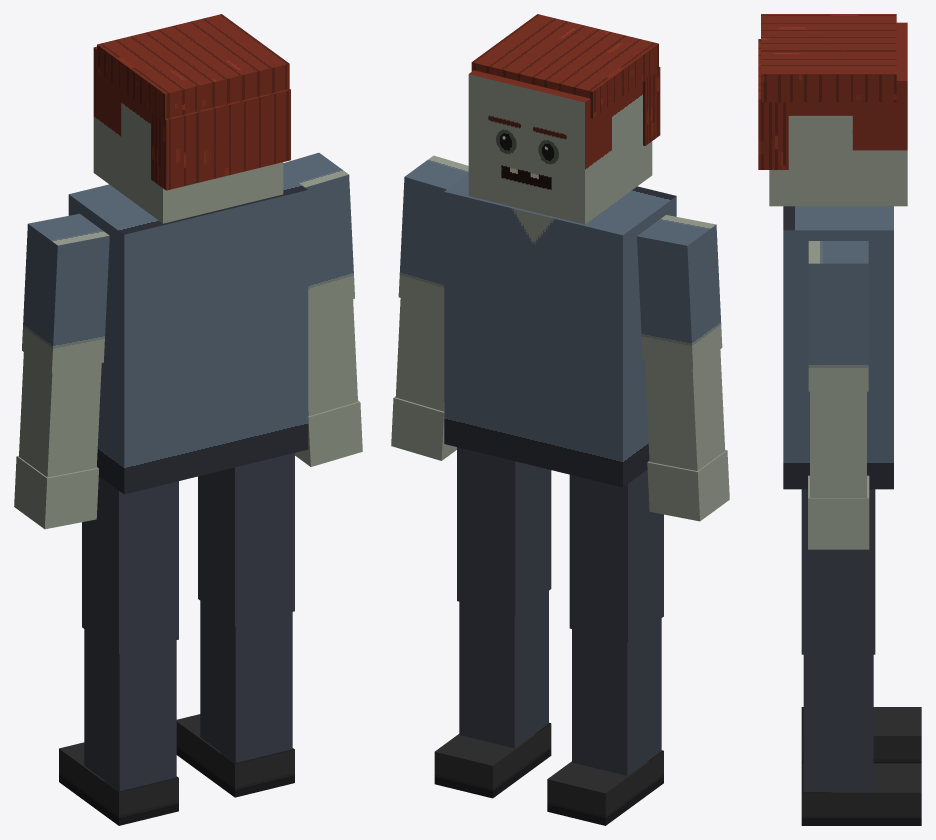
File: hair_slicked.glb
3 renders of one model, left to right at view 1: azimuth 30°, elevation 25°; view 2: azimuth 150°, elevation 25°; view 3: azimuth 270°, elevation 25°, orthographic. The views are drawn at different scales.
Visible parts, largest first — view 1: block_torso, block_thigh.L, block_thigh.R, block_hair-slick, block_shin.L, block_shin.R, block_upper_arm.L, block_head, block_hair-nape, block_forearm.L, block_upper_arm.R, block_forearm.R (+4 smaller); view 2: block_torso, block_head, block_thigh.L, block_thigh.R, block_shin.L, block_shin.R, block_upper_arm.L, block_hair-slick, block_forearm.L, block_upper_arm.R, block_foot.R, block_foot.L (+4 smaller); view 3: block_torso, block_head, block_hair-slick, block_shin.R, block_upper_arm.R, block_thigh.R, block_forearm.R, block_foot.R, block_hand.R, block_foot.L, block_hair-nape.
Part boxes in pixels (bbox=[...]): block_torso: bbox=[68, 172, 308, 494]; block_thigh.L: bbox=[82, 476, 178, 653]; block_thigh.R: bbox=[198, 453, 294, 625]; block_hair-slick: bbox=[97, 14, 289, 120]; block_shin.L: bbox=[84, 629, 176, 791]; block_shin.R: bbox=[200, 601, 292, 762]; block_upper_arm.L: bbox=[22, 213, 109, 372]; block_head: bbox=[93, 46, 283, 223]; block_hair-nape: bbox=[151, 89, 290, 190]; block_forearm.L: bbox=[19, 352, 101, 477]; block_upper_arm.R: bbox=[283, 152, 354, 312]; block_forearm.R: bbox=[308, 299, 357, 416]; block_torso: bbox=[444, 174, 676, 487]; block_head: bbox=[468, 70, 652, 224]; block_thigh.L: bbox=[569, 470, 663, 642]; block_thigh.R: bbox=[457, 447, 551, 615]; block_shin.L: bbox=[572, 618, 661, 775]; block_shin.R: bbox=[459, 591, 548, 748]; block_upper_arm.L: bbox=[637, 215, 722, 368]; block_hair-slick: bbox=[471, 14, 658, 118]; block_forearm.L: bbox=[644, 349, 725, 470]; block_upper_arm.R: bbox=[398, 155, 468, 310]; block_foot.R: bbox=[434, 722, 551, 798]; block_foot.L: bbox=[547, 750, 663, 825]; block_torso: bbox=[783, 206, 893, 489]; block_head: bbox=[769, 22, 907, 206]; block_hair-slick: bbox=[761, 14, 896, 102]; block_shin.R: bbox=[803, 654, 873, 791]; block_upper_arm.R: bbox=[808, 241, 868, 391]; block_thigh.R: bbox=[801, 489, 875, 654]; block_forearm.R: bbox=[810, 391, 866, 497]; block_foot.R: bbox=[801, 763, 921, 825]; block_hand.R: bbox=[808, 475, 869, 549]; block_foot.L: bbox=[801, 707, 921, 763]; block_hair-nape: bbox=[758, 39, 788, 169].
Bounding box in the file's own units: 0.7948 × 1.77 × 0.354.
1 material, 1 textured.
